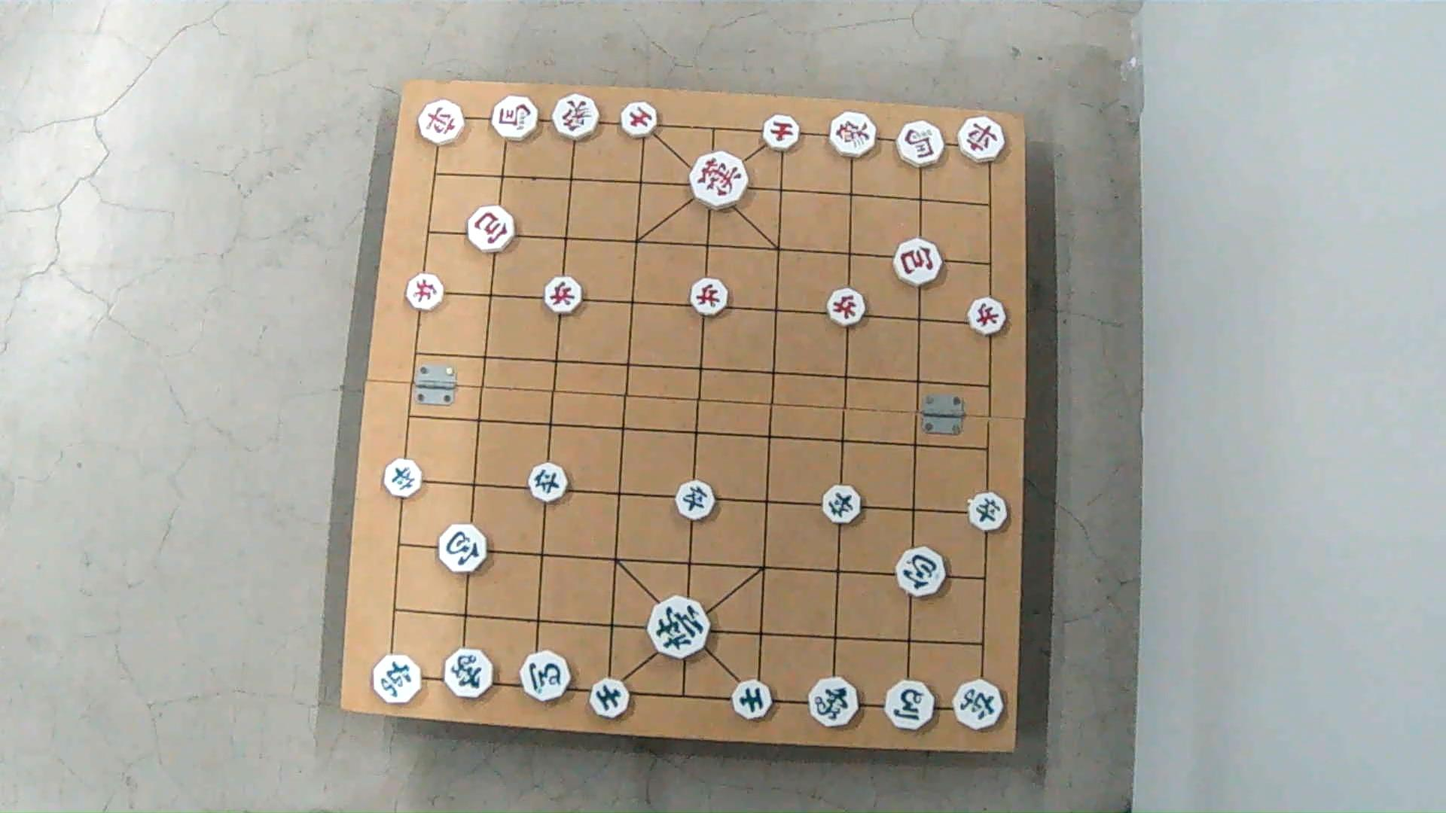cha_green: (951, 679, 1004, 731), (374, 656, 423, 703)
cha_red: (956, 118, 1006, 161), (419, 101, 465, 145)
jol_green: (673, 483, 715, 520), (526, 464, 568, 501), (822, 484, 862, 522), (966, 492, 1005, 528), (383, 461, 423, 496)
jol_red: (690, 278, 731, 314), (966, 299, 1007, 334), (543, 277, 583, 312), (826, 290, 866, 325), (405, 274, 445, 309)
ma_green: (518, 651, 572, 704), (884, 682, 935, 730)
ma_red: (897, 121, 946, 166), (493, 96, 538, 141)
po_green: (897, 550, 947, 598), (439, 525, 489, 571)
po_red: (894, 240, 944, 285), (466, 207, 515, 251)
sa_green: (590, 678, 630, 720), (733, 681, 774, 720)
sa_red: (618, 103, 657, 138), (761, 115, 801, 149)
sang_green: (444, 650, 493, 700), (810, 676, 858, 726)
sang_red: (828, 113, 876, 157), (551, 95, 600, 138)
wang_green: (648, 598, 711, 657)
wang_red: (688, 154, 749, 206)
